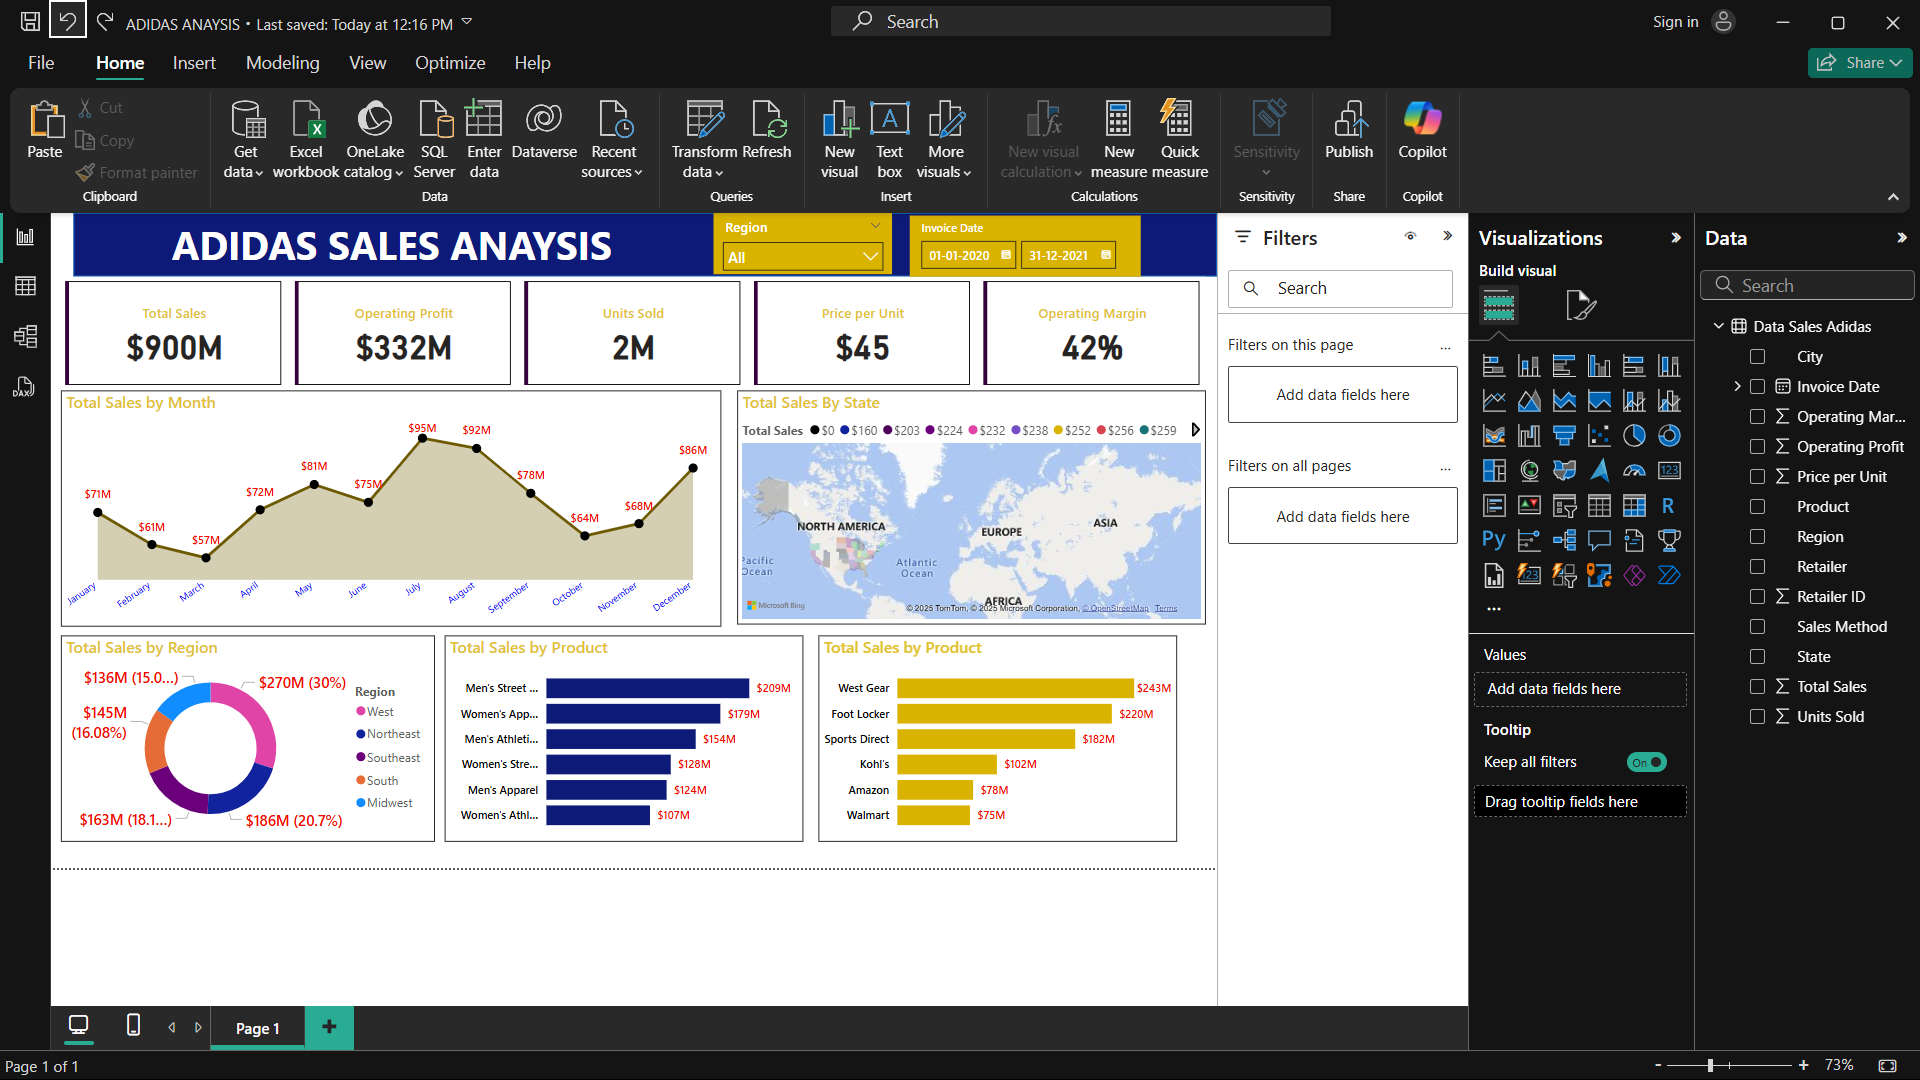

This screenshot's page, from the dashboard's own definition file:
{"tool":"powerbi","page":{"name":"Page 1","canvas":[1280,720],"ordinal":0},"visuals":[{"type":"shape","box":[24.7,0,1255.6,70],"z":0},{"type":"textbox","box":[127.6,0,562.6,70],"z":1000},{"type":"cardVisual","fields":{"Data":["Sum(Data Sales Adidas.Total Sales)","Sum(Data Sales Adidas.Operating Profit)","Sum(Data Sales Adidas.Units Sold)","Avg(Data Sales Adidas.Price per Unit)","Avg(Data Sales Adidas.Operating Margin)"]},"box":[11,70,1257,124.9],"z":2000},{"type":"areaChart","title":"Total Sales by Month","fields":{"Category":["Data Sales Adidas.Invoice Date.Variation.Date Hierarchy.Month"],"Y":["Sum(Data Sales Adidas.Total Sales)"]},"box":[11,194.9,724.5,259.3],"z":3000},{"type":"filledMap","title":"Total Sales By State","fields":{"Category":["Data Sales Adidas.State"],"Series":["Data Sales Adidas.Total Sales"]},"box":[753.3,194.9,514.6,256.6],"z":4000},{"type":"donutChart","title":"Total Sales by Region","fields":{"Category":["Data Sales Adidas.Region"],"Y":["Sum(Data Sales Adidas.Total Sales)"]},"box":[11,463.8,410,226],"z":5000},{"type":"barChart","title":"Total Sales by Product","fields":{"Category":["Data Sales Adidas.Product"],"Y":["Sum(Data Sales Adidas.Total Sales)"]},"box":[432.2,463.8,393.8,226.4],"z":6000},{"type":"barChart","title":"Total Sales by Product","fields":{"Y":["Sum(Data Sales Adidas.Total Sales)"],"Category":["Data Sales Adidas.Retailer"]},"box":[842.5,463.8,393.8,226.4],"z":7000},{"type":"slicer","fields":{"Values":["Data Sales Adidas.Invoice Date"]},"box":[942.7,2.7,253.9,67.2],"z":8000},{"type":"slicer","fields":{"Values":["Data Sales Adidas.Region"]},"box":[727.3,0,196.2,67.2],"z":9000}]}

Visuals, with their boxes on the page's 1280x720 design canvas (x1, y1, x2, y2). These are canvas units, not pixel positions in the 1920x1080 screenshot, which may show the page scaled, cropped or inside an application window:
shape: <box>25,0,1280,70</box>
textbox: <box>128,0,690,70</box>
cardVisual - Sum(Data Sales Adidas.Total Sales) x Sum(Data Sales Adidas.Operating Profit): <box>11,70,1268,195</box>
"Total Sales by Month" areaChart: <box>11,195,736,454</box>
"Total Sales By State" filledMap: <box>753,195,1268,452</box>
"Total Sales by Region" donutChart: <box>11,464,421,690</box>
"Total Sales by Product" barChart: <box>432,464,826,690</box>
"Total Sales by Product" barChart: <box>842,464,1236,690</box>
slicer - Data Sales Adidas.Invoice Date: <box>943,3,1197,70</box>
slicer - Data Sales Adidas.Region: <box>727,0,924,67</box>
